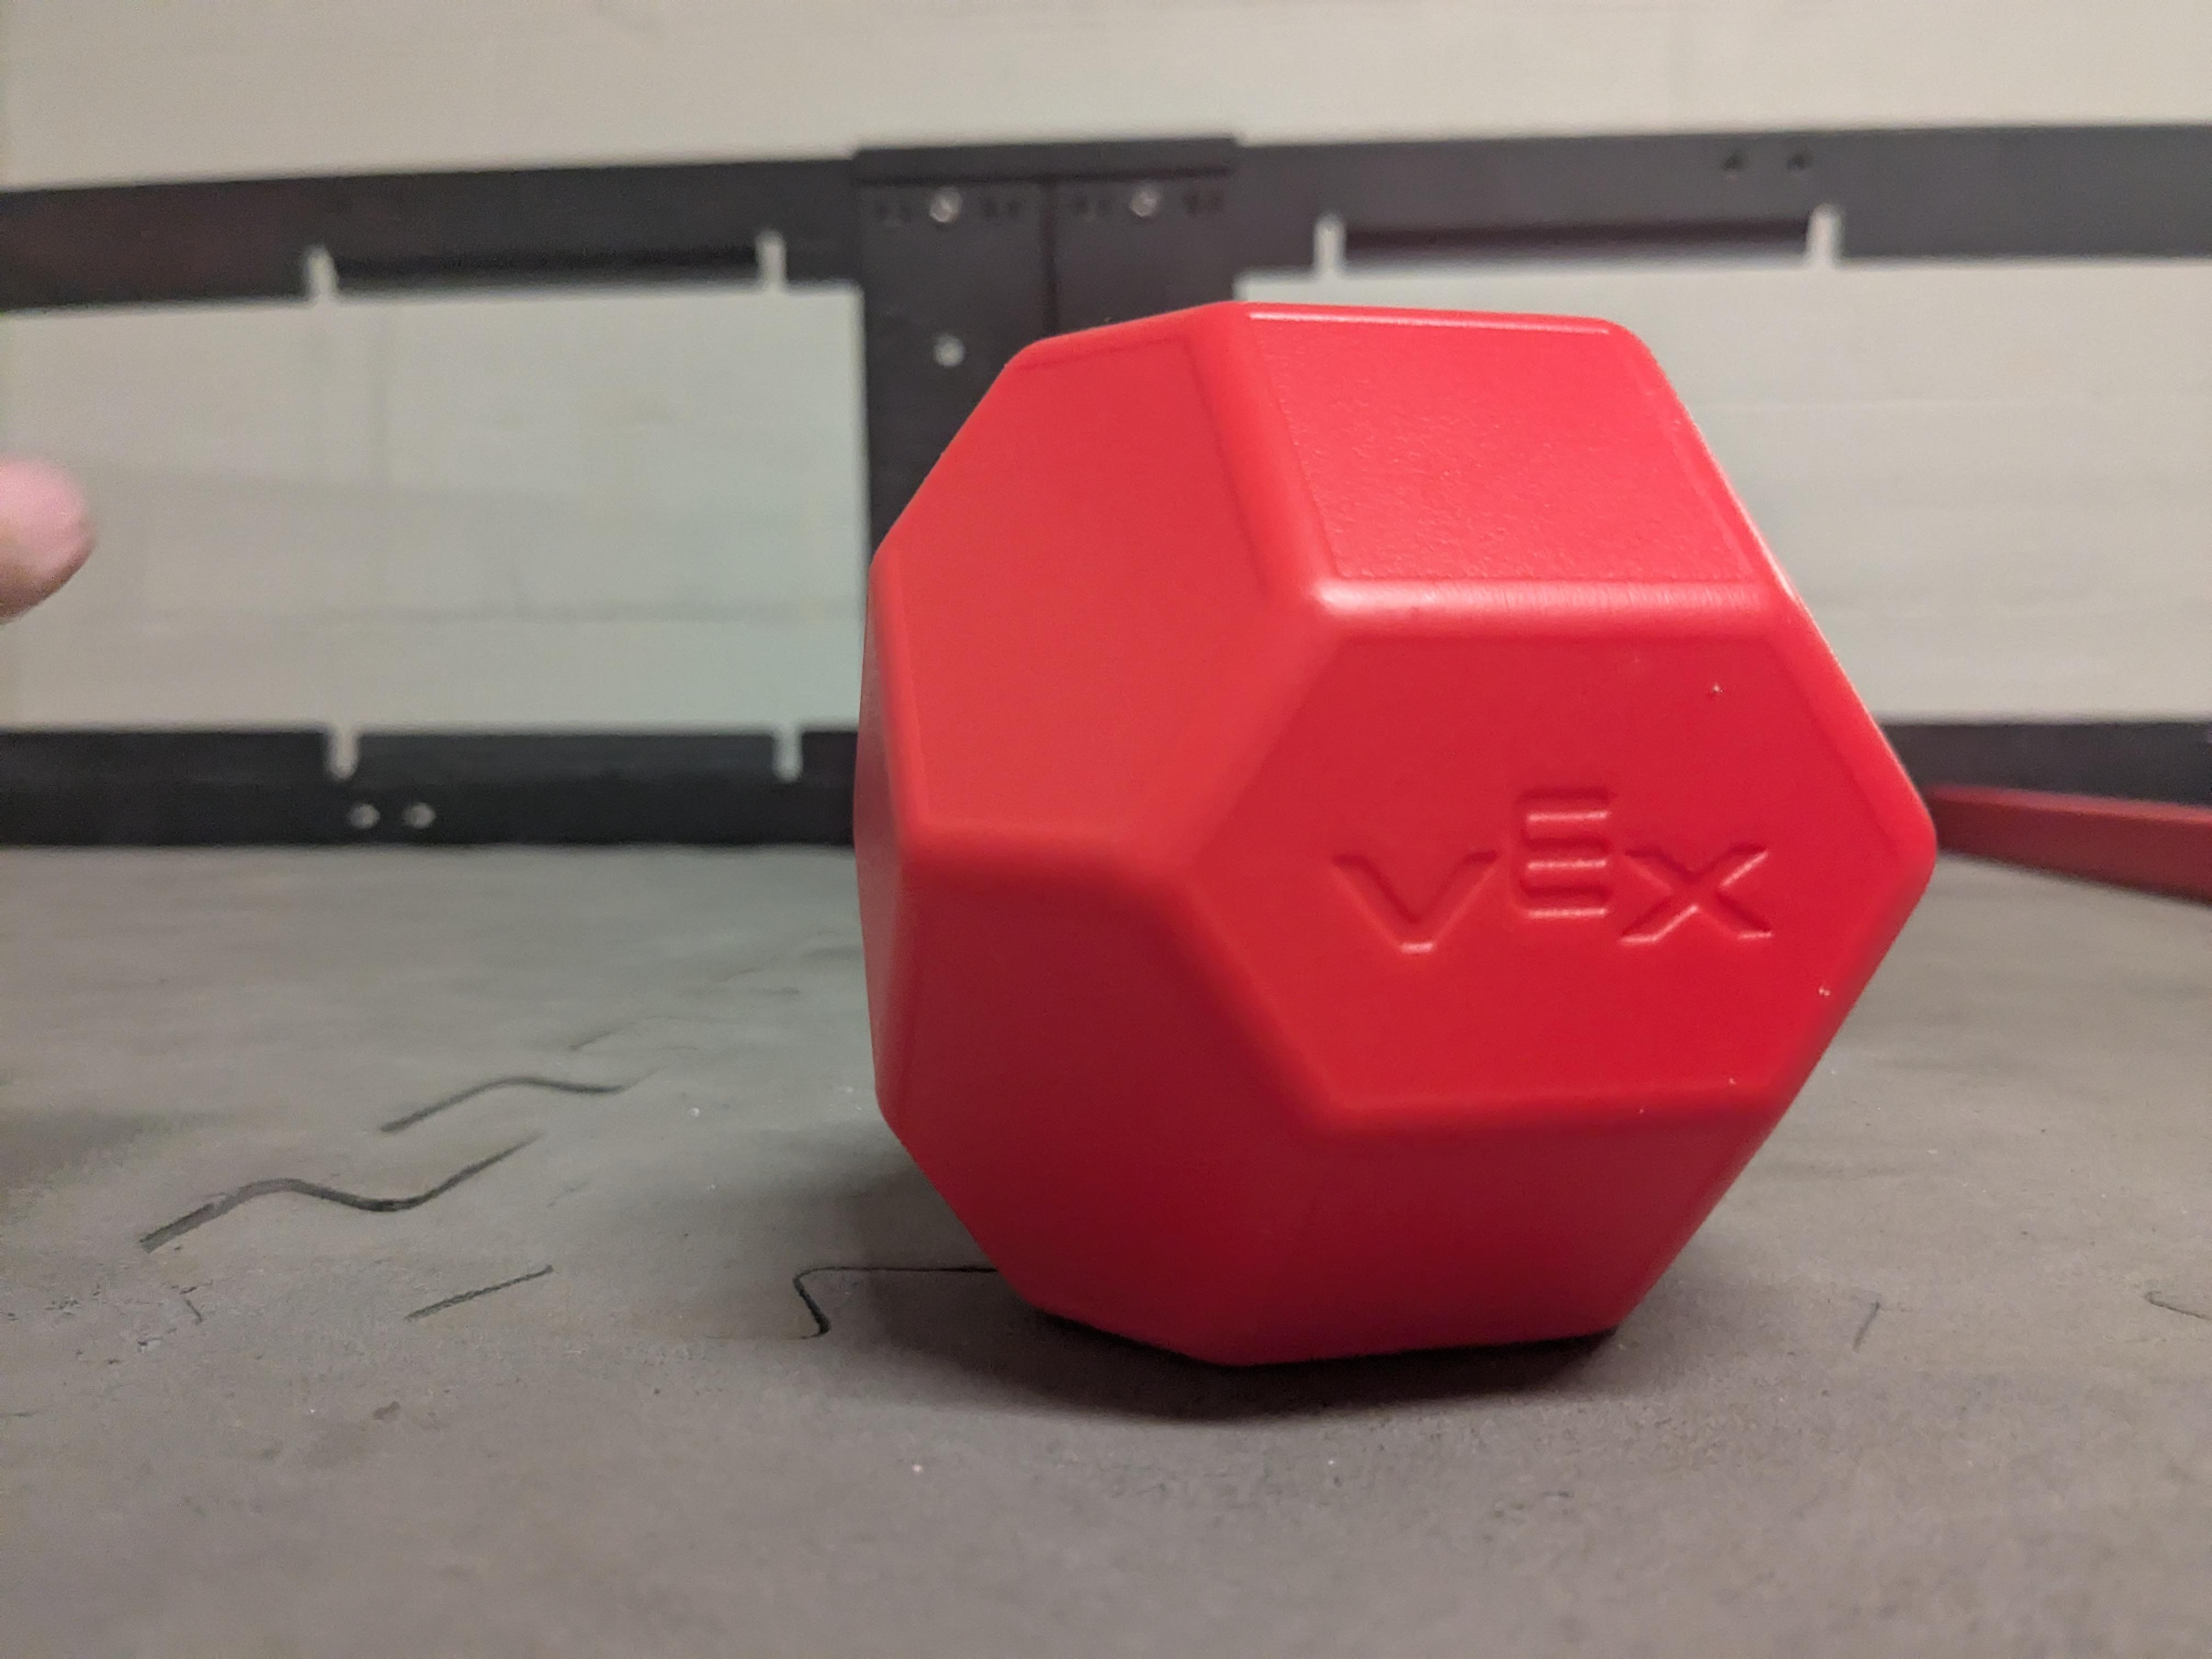Vex-Pieces-RED: (855, 303, 1935, 1363)
